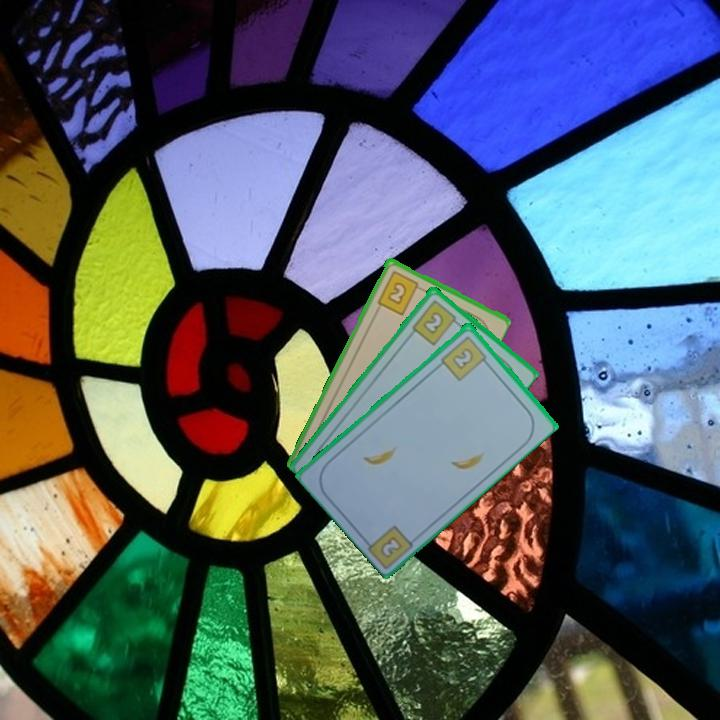2b: (408, 296, 463, 348), (438, 332, 492, 383), (374, 267, 425, 317), (377, 532, 405, 561)
